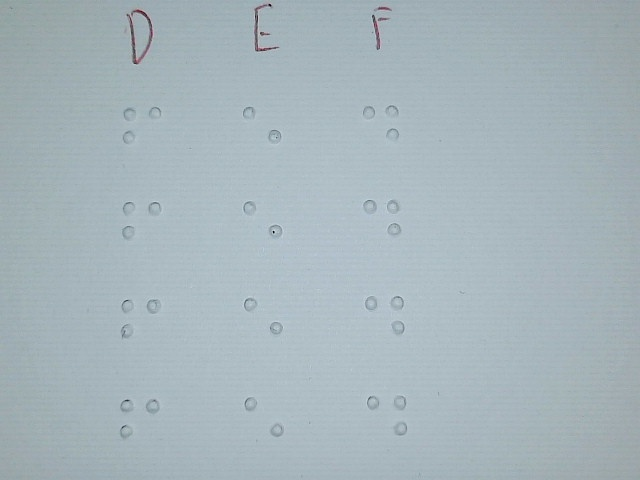D: (359, 92, 403, 165), (361, 186, 405, 259), (363, 283, 407, 356), (365, 382, 409, 455)
E: (240, 93, 284, 166), (241, 186, 285, 259), (241, 284, 285, 357), (243, 382, 287, 455)
F: (120, 95, 164, 168), (120, 189, 164, 262), (119, 285, 163, 358), (118, 385, 162, 458)
